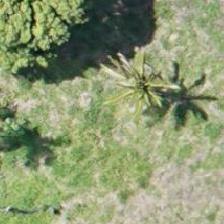coconut_tree: (100, 39, 190, 129)
